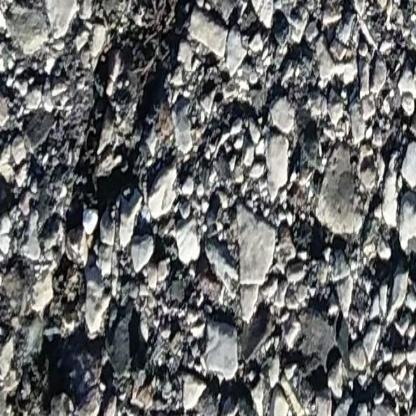Cracks: (32, 0, 253, 258), (14, 295, 160, 416), (0, 167, 29, 236)
